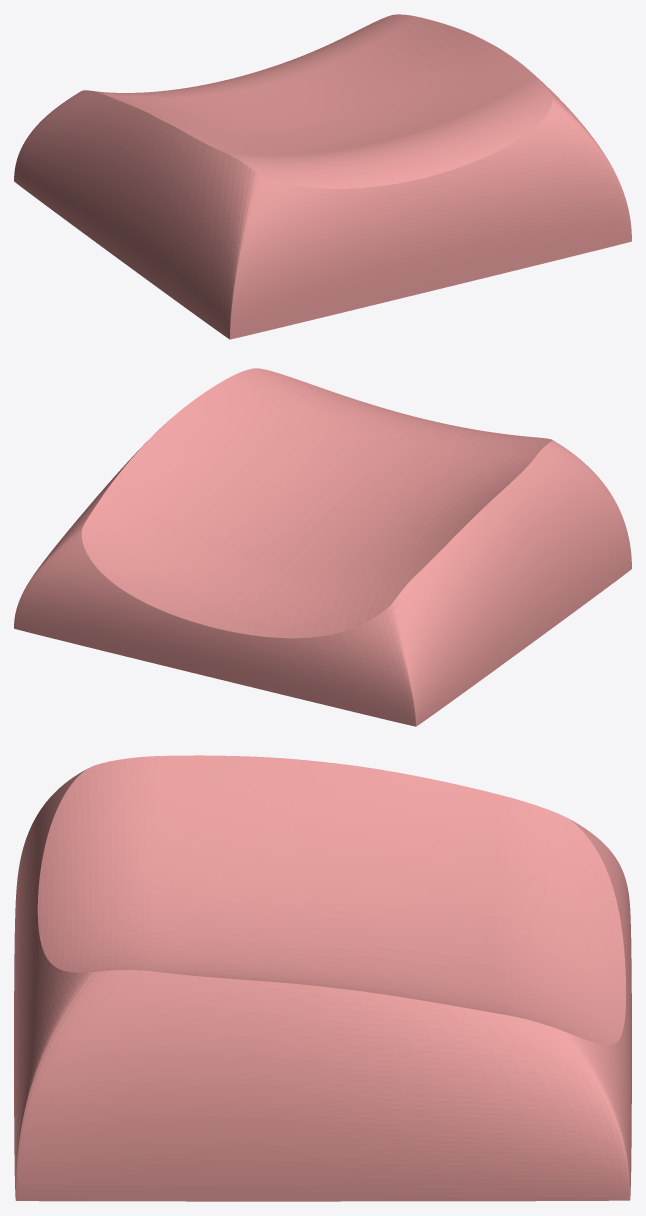
Rendered from MX-Chicago-Steno-R4.gltf.
3 renders of one model, top to bottom at view 1: azimuth 30°, elevation 25°; view 2: azimuth 150°, elevation 25°; view 3: azimuth 270°, elevation 25°, orthographic. The views are drawn at different scales.
Visible parts, largest first — view 1: object 1; view 2: object 1; view 3: object 1.
Part boxes in pixels (x1,y1,x2,y2): object 1: (14, 14, 631, 339); object 1: (14, 368, 631, 726); object 1: (14, 755, 631, 1201).
Bounding box in the file's own units: 1.73 × 0.678 × 1.61.
